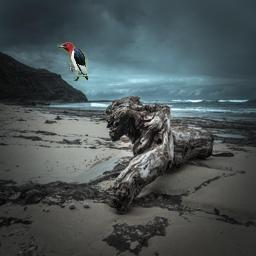Woodpecker: (57, 42, 88, 81)
